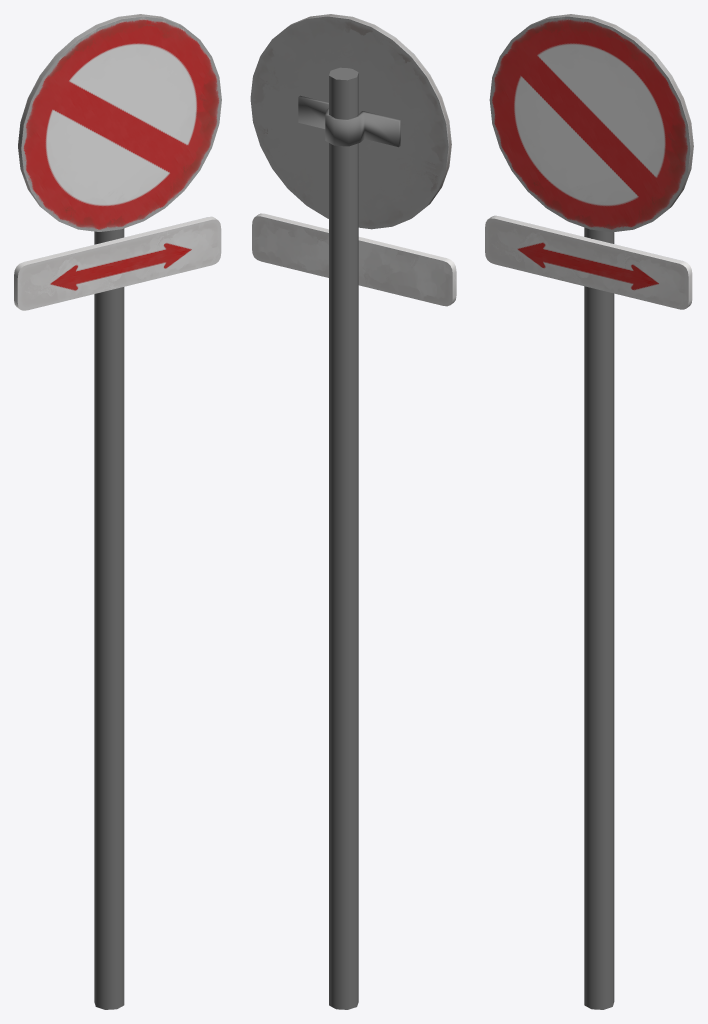
The model's file is SM_sign_traffic_004.fbx.
3 views of the same model, side by side, from view 1: azimuth 30°, elevation 25°; view 2: azimuth 150°, elevation 25°; view 3: azimuth 330°, elevation 25° (orthographic).
Parts seen in each view (by area): view 1: Object32688; view 2: Object32688; view 3: Object32688.
Boxes of the visible parts, x1,y1,x2,y2 form: Object32688: (14, 14, 221, 1009); Object32688: (250, 14, 456, 1009); Object32688: (485, 14, 693, 1009).
Size of the model in its own units: 24.01 by 111 by 4.28.
